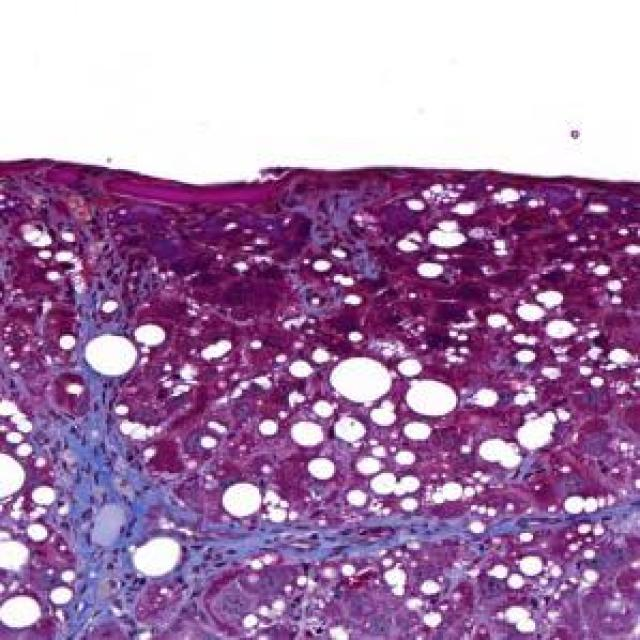fibrosis: (41, 430, 227, 597)
